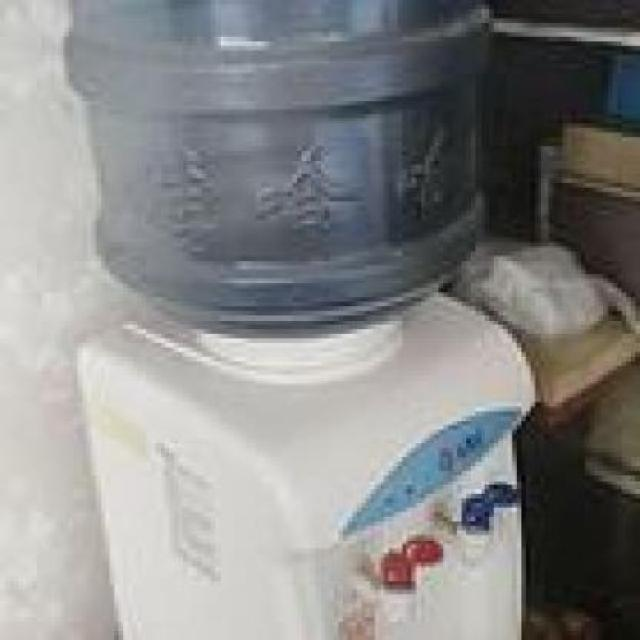coolerbottle: (56, 1, 500, 344)
